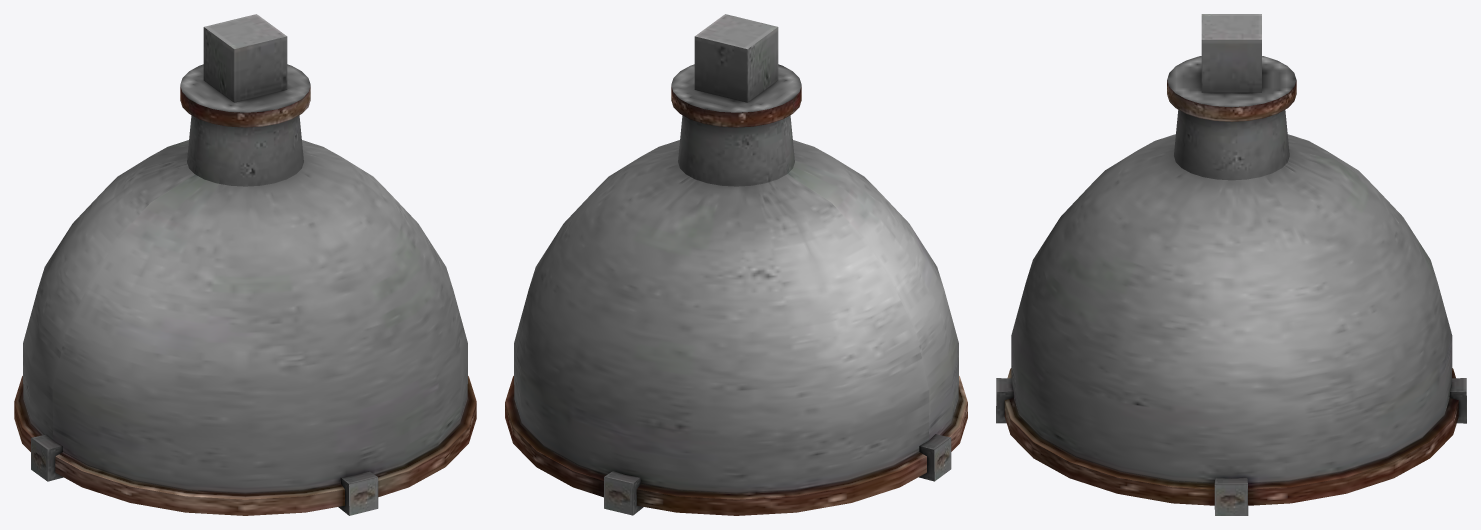
Rendered from industriallight01.glb.
The picture shows the model from 3 angles, left to right: view 1: azimuth 30°, elevation 25°; view 2: azimuth 150°, elevation 25°; view 3: azimuth 270°, elevation 25°; orthographic projection.
Parts seen in each view (by area): view 1: 0_IndustrialLight01; view 2: 0_IndustrialLight01; view 3: 0_IndustrialLight01.
Part boxes in pixels (x1,y1,x2,y2): 0_IndustrialLight01: (14, 14, 476, 515); 0_IndustrialLight01: (505, 14, 967, 515); 0_IndustrialLight01: (996, 14, 1466, 515).
Size of the model in its own units: 0.7327 by 0.6791 by 0.7327.
Materials: 1 (1 with a texture image).
